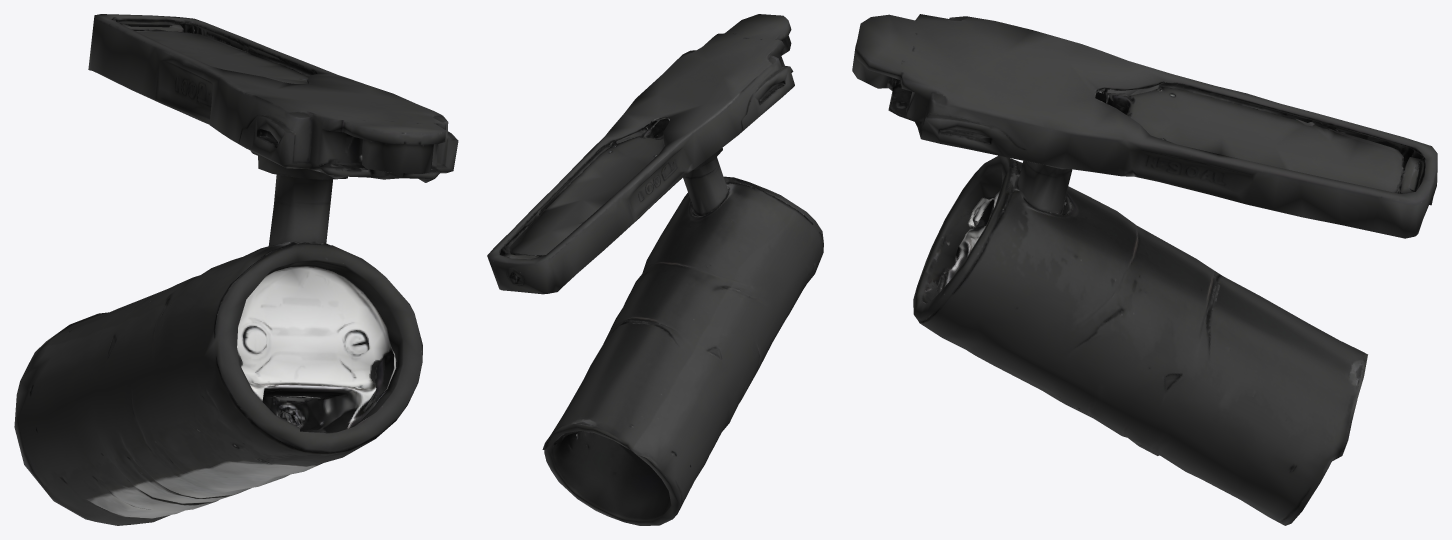
The model's file is luminaria5.obj.
3 views of the same model, side by side, from view 1: azimuth 30°, elevation 25°; view 2: azimuth 150°, elevation 25°; view 3: azimuth 270°, elevation 25° (orthographic). The views are drawn at different scales.
Visible parts, largest first — view 1: luminaria5; view 2: luminaria5; view 3: luminaria5.
Boxes of the visible parts, left/top/right/bottom form: luminaria5: left=14, top=14, right=458, bottom=525; luminaria5: left=487, top=14, right=823, bottom=525; luminaria5: left=852, top=14, right=1437, bottom=525.
Bounding box in the file's own units: 0.8585 × 1.98 × 2.12.
Materials: 1 (1 with a texture image).
